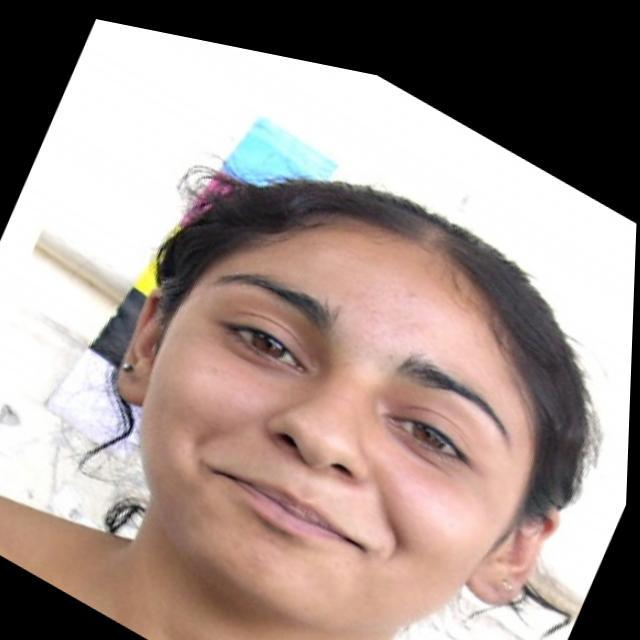Nonhelmet: (94, 161, 599, 637)
